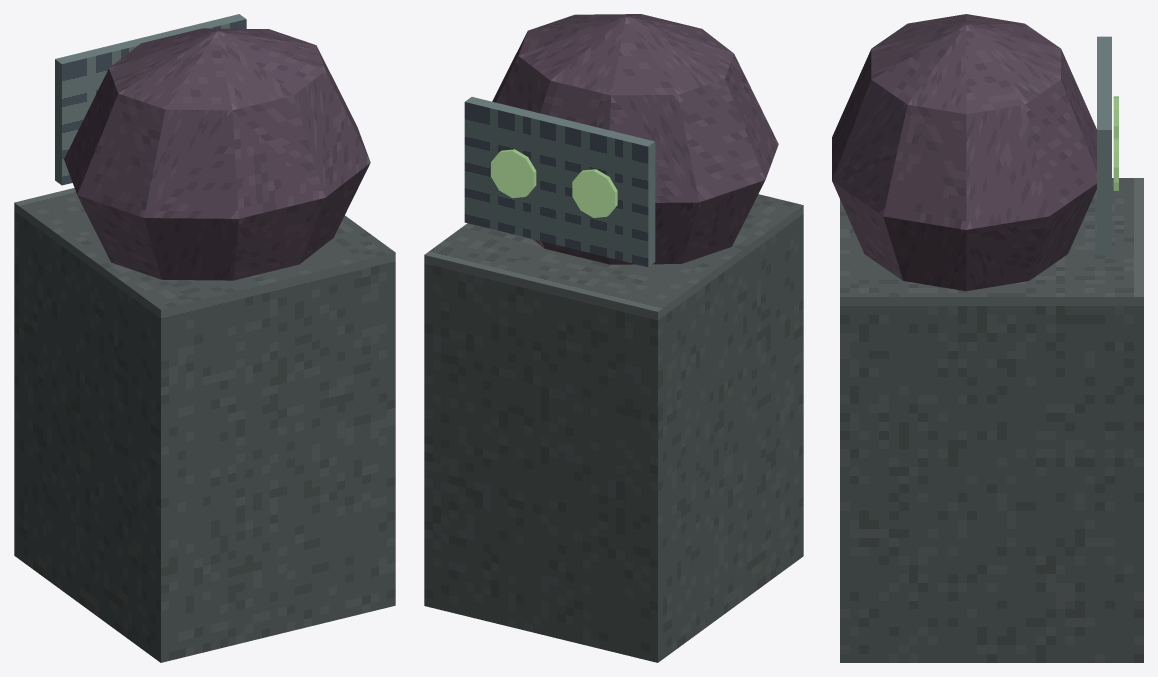
Rendered from f_string_dimension_distress_beacon_2.glb.
3 views of the same model, side by side, from view 1: azimuth 30°, elevation 25°; view 2: azimuth 150°, elevation 25°; view 3: azimuth 270°, elevation 25° (orthographic). The views are drawn at different scales.
Parts seen in each view (by area): view 1: block_distress-beacon-pedestal, block_bulbous-monitor-shell, block_garbled-monitor-display; view 2: block_distress-beacon-pedestal, block_bulbous-monitor-shell, block_garbled-monitor-display, block_glowing-circle (×2); view 3: block_distress-beacon-pedestal, block_bulbous-monitor-shell, block_garbled-monitor-display.
Boxes of the visible parts, box(x1,y1,x2,y2) form: block_distress-beacon-pedestal: box(14, 188, 395, 662); block_bulbous-monitor-shell: box(64, 28, 370, 280); block_garbled-monitor-display: box(55, 14, 246, 185); block_distress-beacon-pedestal: box(424, 194, 803, 662); block_bulbous-monitor-shell: box(492, 14, 778, 264); block_garbled-monitor-display: box(464, 97, 655, 266); block_glowing-circle (×2): box(491, 149, 617, 217); block_distress-beacon-pedestal: box(840, 178, 1143, 662); block_bulbous-monitor-shell: box(832, 14, 1096, 291); block_garbled-monitor-display: box(1097, 36, 1111, 255).
Bounding box in the file's own units: 0.706 × 1.34 × 0.6565.
2 materials, 2 textured.
